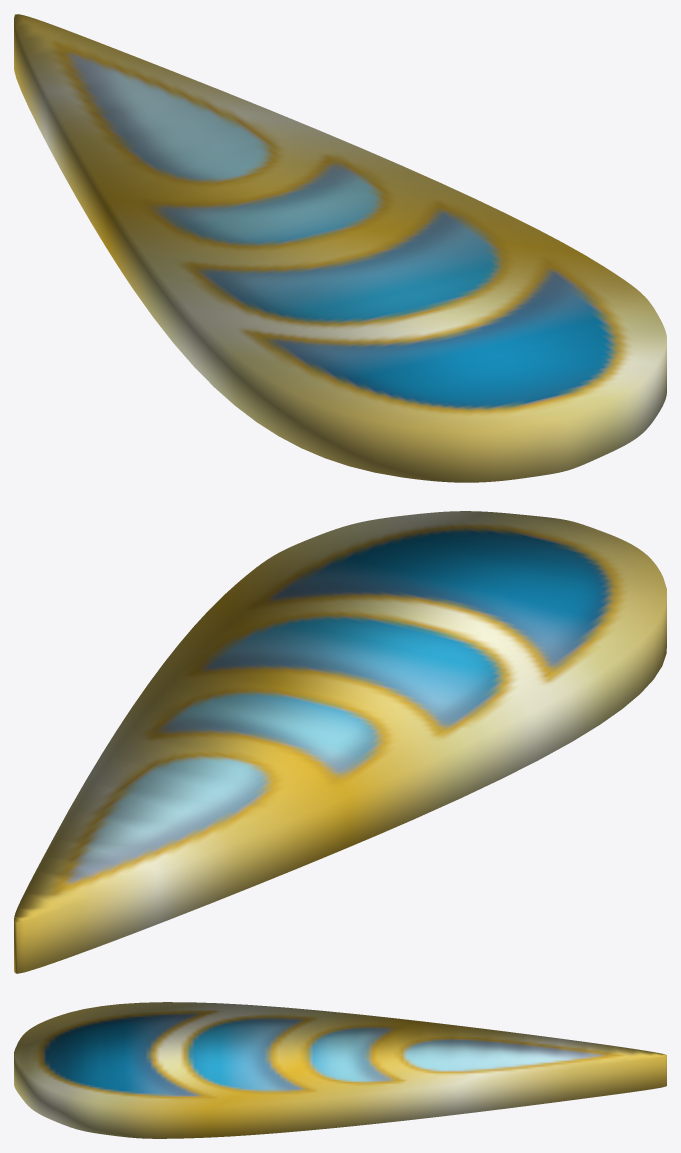
3 renders of one model, top to bottom at view 1: azimuth 30°, elevation 25°; view 2: azimuth 150°, elevation 25°; view 3: azimuth 270°, elevation 25°, orthographic. The views are drawn at different scales.
Visible parts, largest first — view 1: path1587; view 2: path1587; view 3: path1587.
Part boxes in pixels (x1,y1,x2,y2): path1587: [14, 14, 666, 482]; path1587: [14, 511, 666, 973]; path1587: [14, 1002, 666, 1138].
Size of the model in its own units: 37.49 by 5 by 97.27.
Materials: 1 (1 with a texture image).
